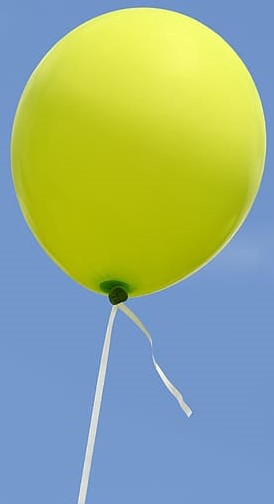Balloon: (10, 7, 266, 300)
